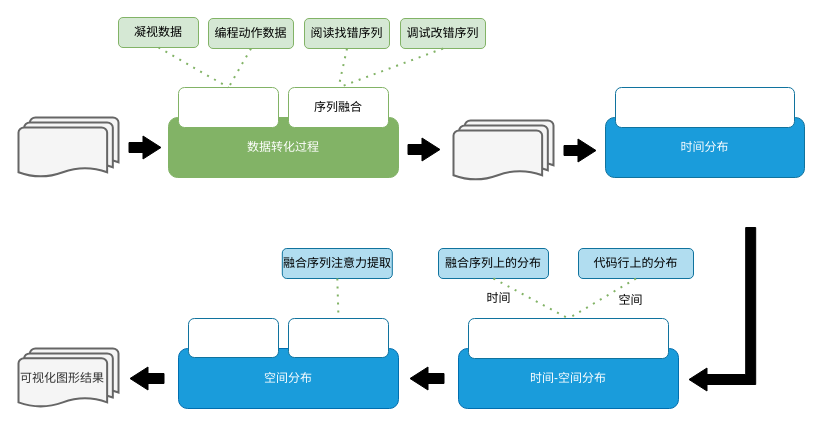
The diagram is 822 pixels wide and 426 high, and some of its shapes have lost their labels. The shapes that lost their labels are listed below. From the top down, each one's centre as x and y in pixels, then its label:
(x=228, y=107): 多模态数据
(x=704, y=107): 融合序列时间分布阶梯图
(x=68, y=147): 原始多模态数据
(x=503, y=150): 多种可视化图形
(x=233, y=338): 视觉注意力空间转移图
(x=338, y=338): 融合序列注意力空间分布图
(x=568, y=338): 视觉注意力时空分布热力图
